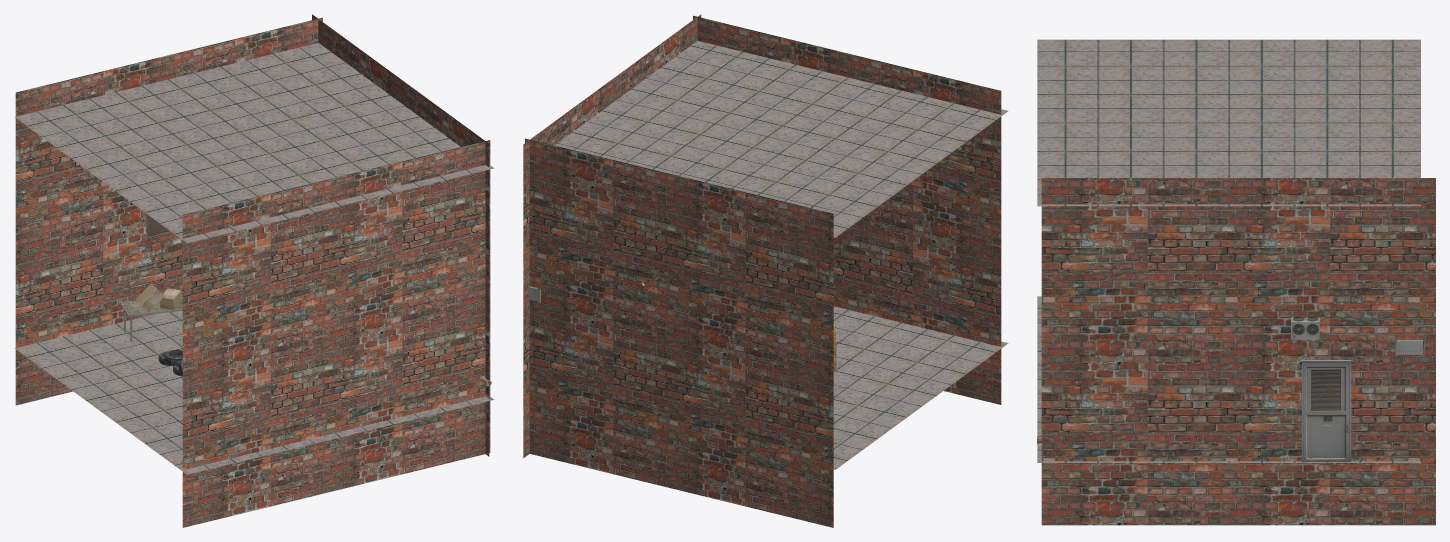
The model's file is garage_new.fbx.
The picture shows the model from 3 angles, left to right: view 1: azimuth 30°, elevation 25°; view 2: azimuth 150°, elevation 25°; view 3: azimuth 270°, elevation 25°; orthographic projection. The views are drawn at different scales.
Parts seen in each view (by area): view 1: Plane005, Plane004, Plane002, Plane001, Plane003, table_Layer1; view 2: Plane002, Plane004, Plane005, Plane001, Plane003; view 3: Plane003, Plane004, door_Layer1, Plane001, vent_Layer1.
Part boxes in pixels (x1,y1,x2,y2): Plane005: (182, 140, 490, 527); Plane004: (15, 43, 494, 243); Plane002: (15, 17, 322, 405); Plane001: (15, 311, 494, 474); Plane003: (312, 14, 489, 456); table_Layer1: (120, 295, 182, 342); Plane002: (525, 138, 833, 527); Plane004: (554, 40, 1008, 237); Plane005: (693, 15, 1001, 404); Plane001: (833, 306, 1008, 469); Plane003: (523, 14, 701, 458); Plane003: (1041, 178, 1435, 525); Plane004: (1037, 39, 1420, 206); door_Layer1: (1302, 360, 1351, 463); Plane001: (1037, 296, 1420, 462); vent_Layer1: (1291, 317, 1319, 339).
Size of the model in its own units: 886 by 850 by 884.
Materials: 24 (24 with a texture image).
